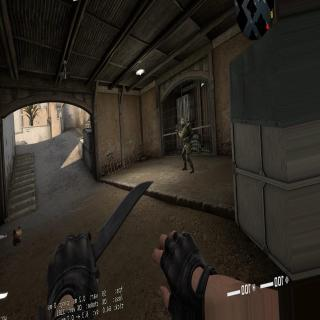CT-Body: (178, 115, 196, 168)
CT-Head: (180, 118, 185, 128)
